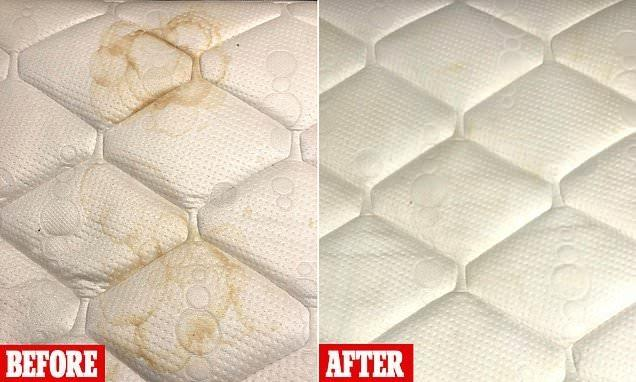Bed-Mattress: (0, 0, 317, 382), (319, 0, 636, 382)
